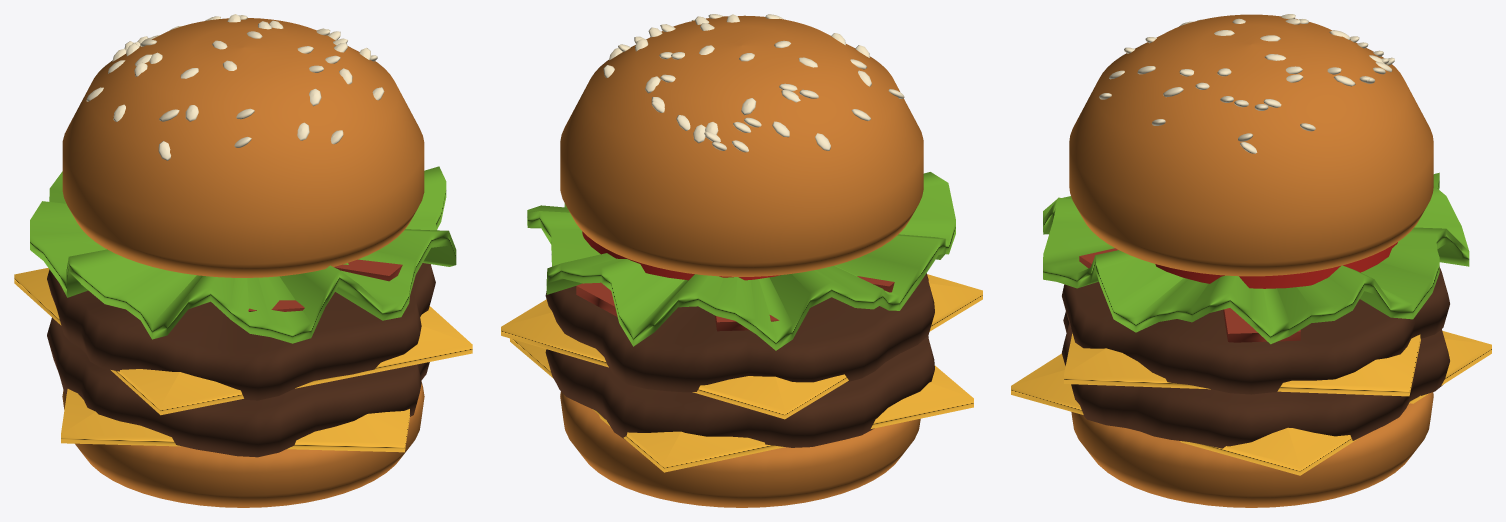
The model's file is duplo-bacon.glb.
3 views of the same model, side by side, from view 1: azimuth 30°, elevation 25°; view 2: azimuth 150°, elevation 25°; view 3: azimuth 270°, elevation 25° (orthographic).
Parts seen in each view (by area): view 1: bun, patty, lettuce, cheese, sesame, bacon; view 2: bun, patty, lettuce, cheese, sesame, bacon, tomato; view 3: bun, patty, lettuce, cheese, sesame, tomato, bacon.
Boxes of the visible parts, bbox=[...] form: bun: bbox=[62, 18, 424, 507]; patty: bbox=[47, 263, 435, 457]; lettuce: bbox=[30, 166, 456, 343]; cheese: bbox=[14, 268, 472, 452]; sesame: bbox=[86, 14, 384, 160]; bacon: bbox=[248, 259, 402, 311]; bun: bbox=[560, 15, 923, 507]; patty: bbox=[545, 273, 934, 447]; lettuce: bbox=[527, 172, 955, 350]; cheese: bbox=[501, 274, 982, 472]; sesame: bbox=[603, 14, 904, 152]; bacon: bbox=[576, 276, 894, 331]; tomato: bbox=[582, 231, 780, 280]; bun: bbox=[1069, 14, 1433, 507]; patty: bbox=[1062, 267, 1449, 448]; lettuce: bbox=[1043, 172, 1469, 344]; cheese: bbox=[1011, 331, 1491, 475]; sesame: bbox=[1099, 14, 1394, 153]; tomato: bbox=[1155, 242, 1397, 288]; bacon: bbox=[1079, 248, 1300, 342].
Bounding box in the file's own units: 0.145 × 0.1314 × 0.145.
